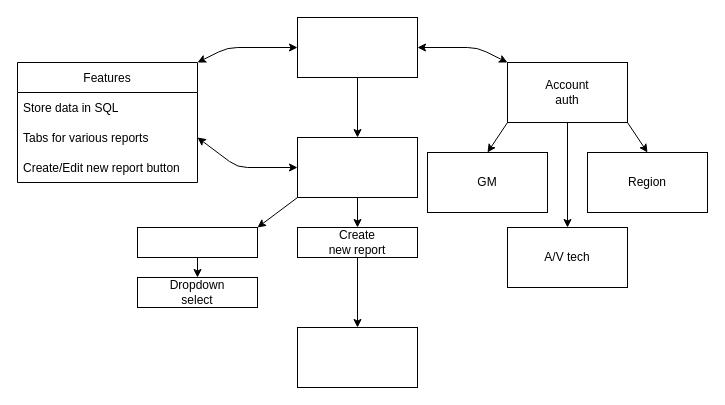
This 725x405 diagram has some shape labels left out. The shapes that lost their labels are listed below. From the top down, each one's box as (x1, y1, x2, y2) in pixels, then its label:
(296, 16, 418, 78): Log in
(296, 136, 418, 198): Display data for specific location
(136, 226, 258, 258): Edit reports
(296, 326, 418, 388): Form to upload new SQL data
